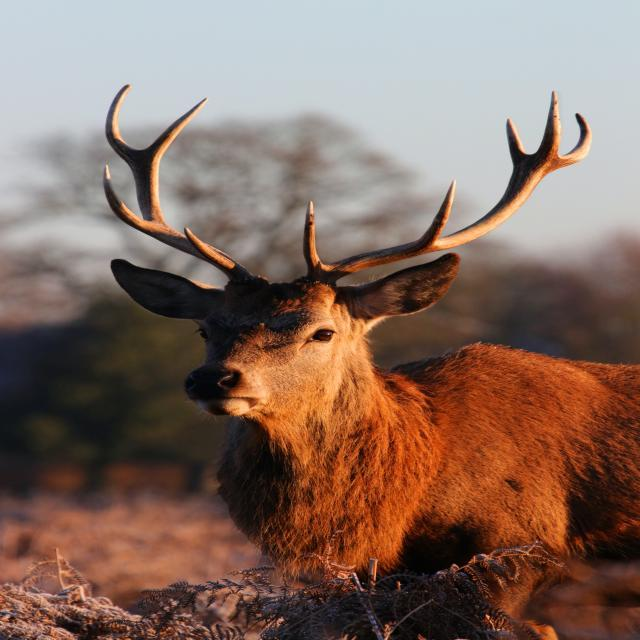E1: (506, 118, 529, 167)
E2: (560, 113, 592, 167)
L-F: (300, 90, 561, 287)
L-G1: (303, 200, 323, 270)
L-G2: (419, 179, 456, 245)
